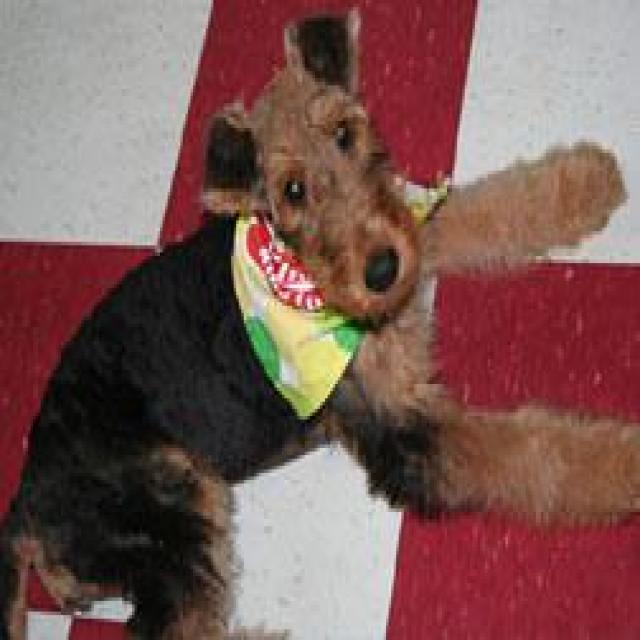airedale: (0, 10, 637, 636)
